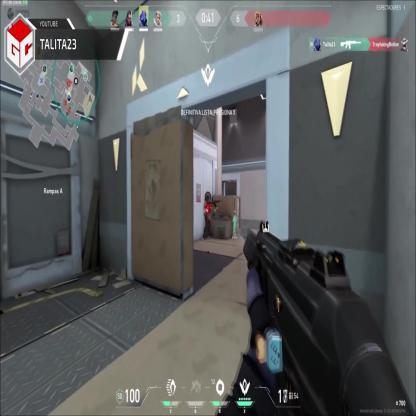enemy: (202, 192, 212, 238)
enemy_head: (205, 193, 209, 202)
